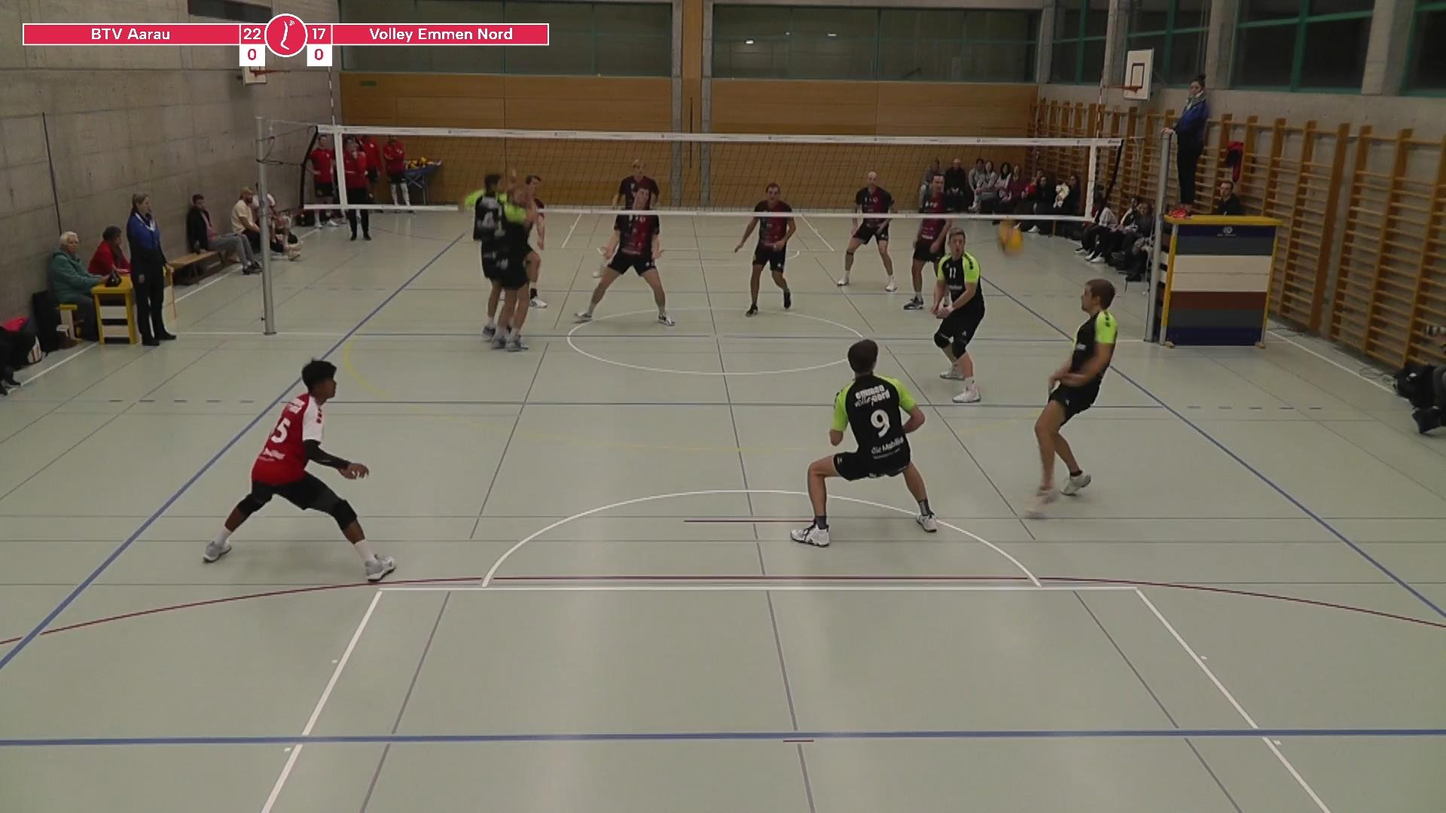difesa: (1007, 268, 1125, 522)
